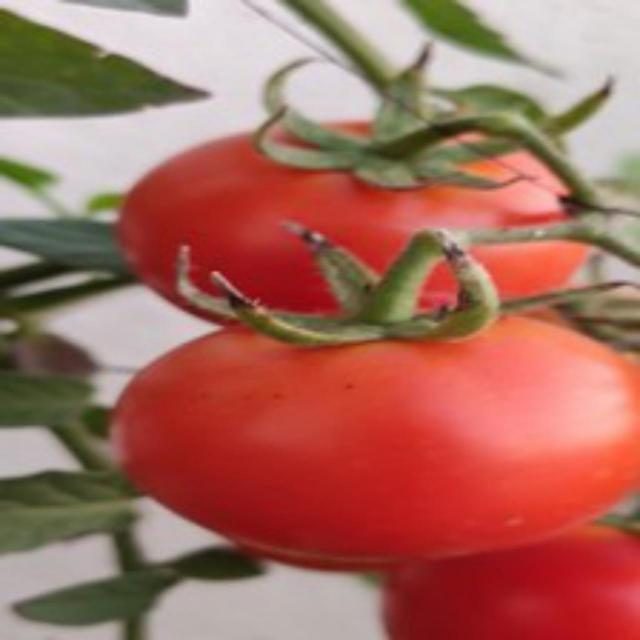tomato: (108, 286, 637, 566), (130, 93, 594, 331)
